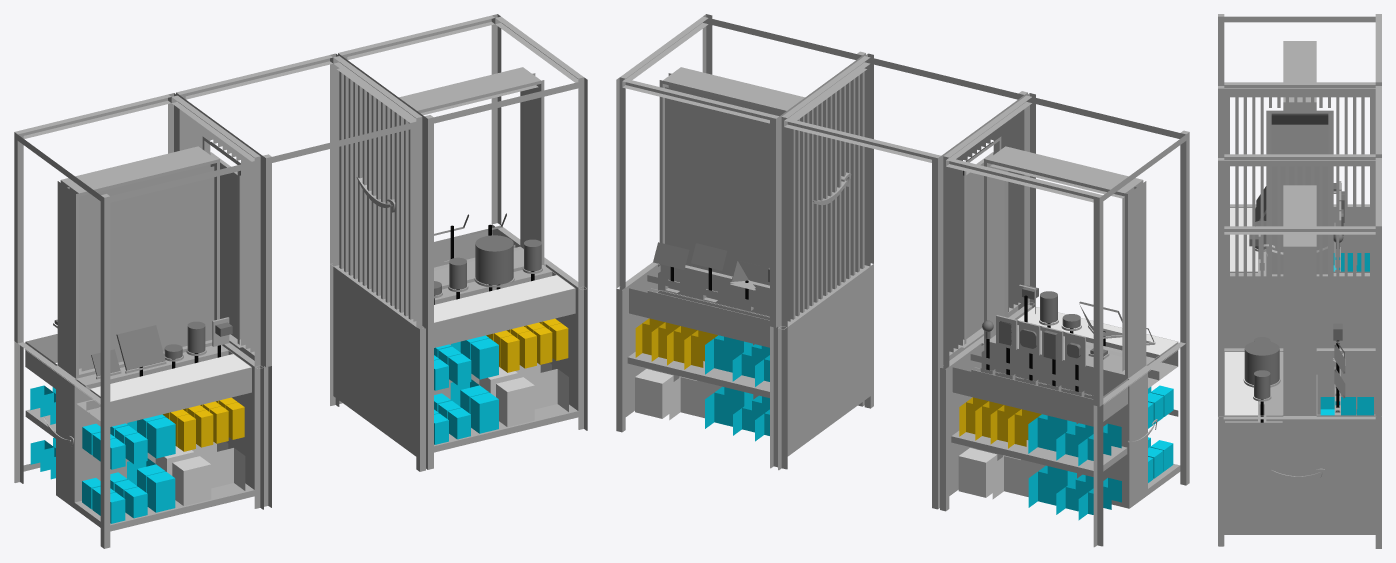
The picture shows the model from 3 angles, left to right: view 1: azimuth 30°, elevation 25°; view 2: azimuth 150°, elevation 25°; view 3: azimuth 270°, elevation 25°; orthographic projection. The views are drawn at different scales.
Parts seen in each view (by area): view 1: Node; view 2: Node; view 3: Node.
Part boxes in pixels (x1,y1,x2,y2): Node: (14, 14, 587, 548); Node: (616, 14, 1189, 547); Node: (1218, 14, 1381, 548).
Bounding box in the file's own units: 121 × 84 × 39.
